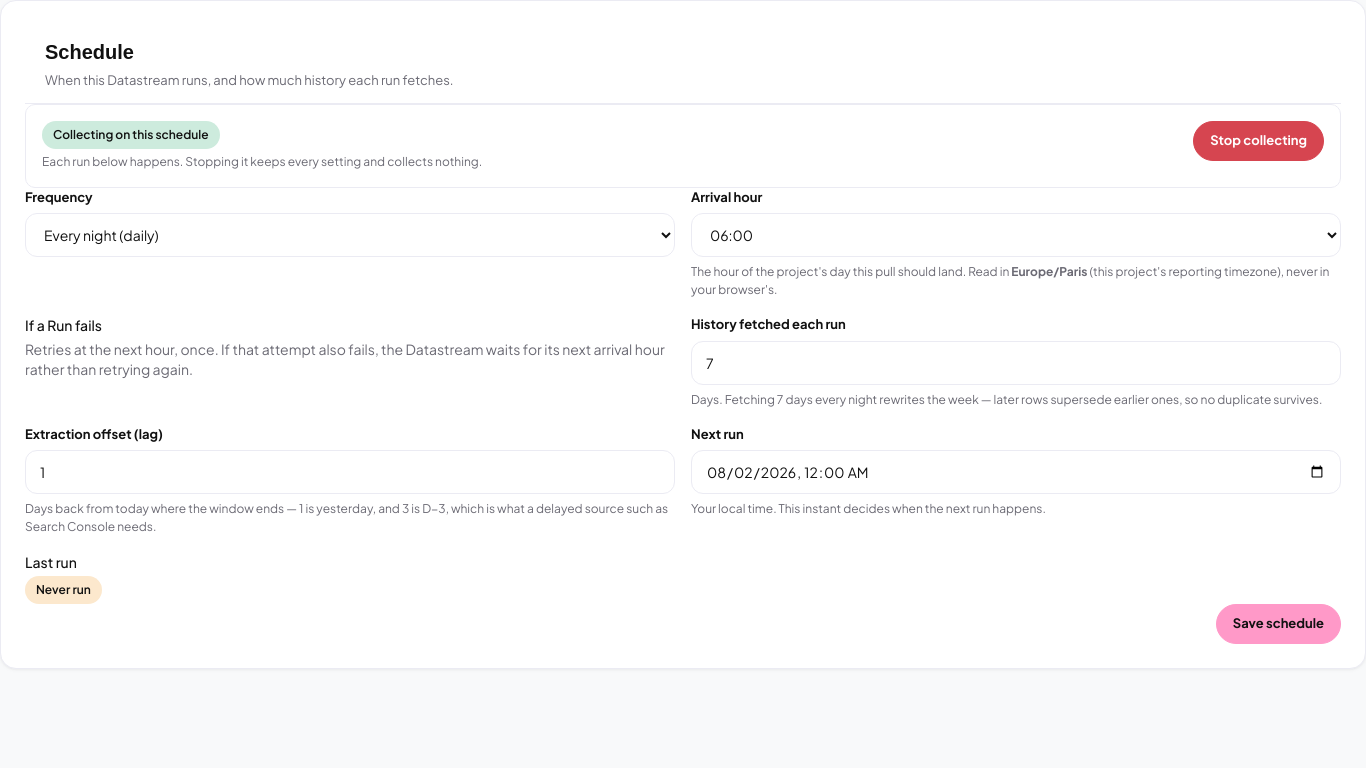
Test case: SchedulePanel › shows the server's refusal rather than a generic failure
Click the button with test id "schedule-save".
click(1278, 624)  # box [1216,604,1341,644]
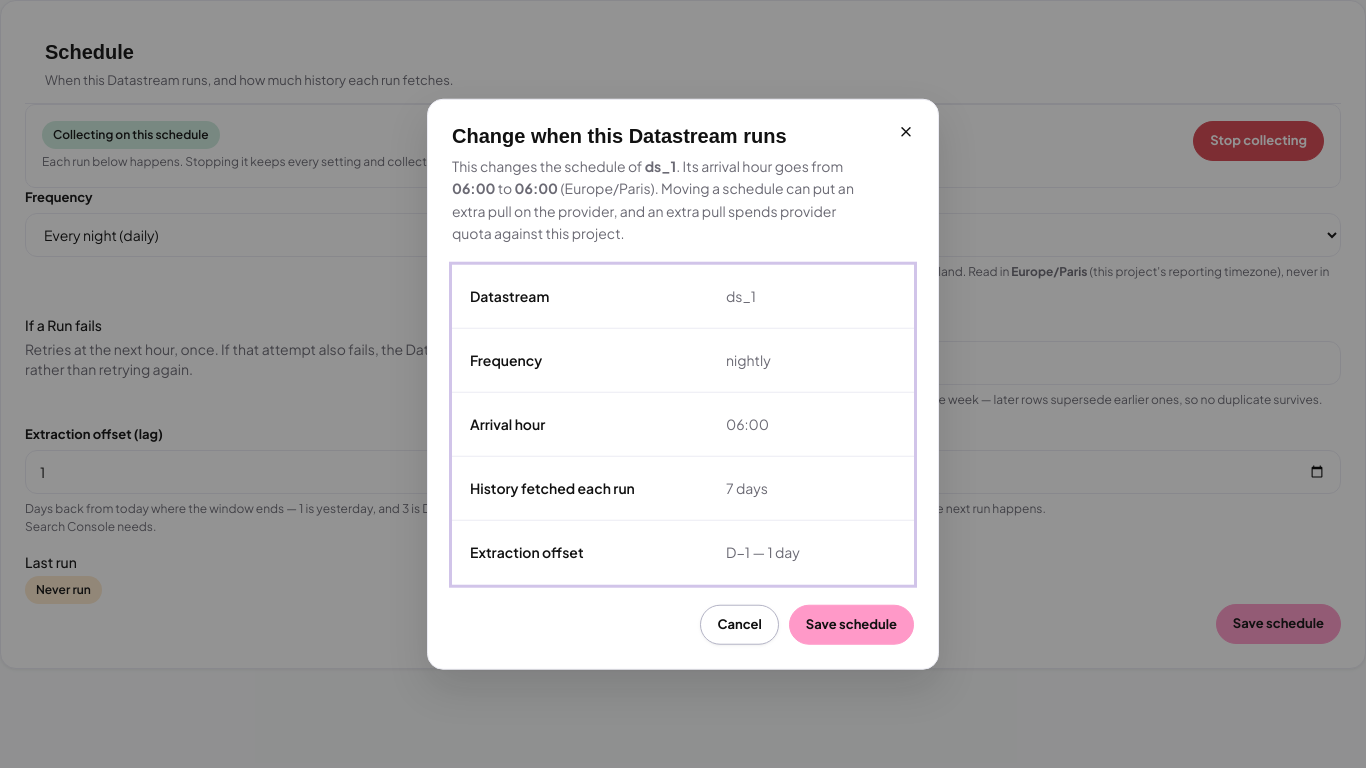
Click the button with test id "schedule-confirm-accept".
click(851, 624)  # box [789,604,914,644]
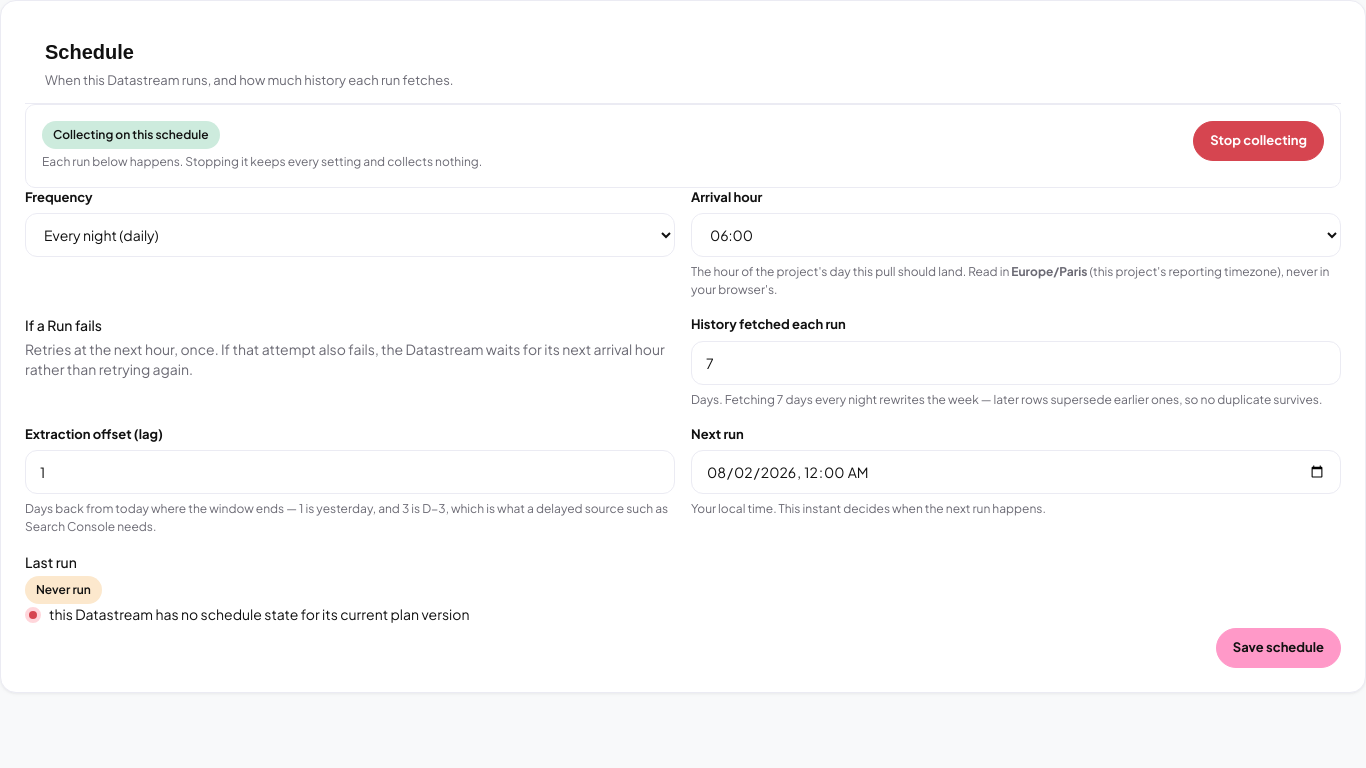
expect the text "no schedule state for its current plan version" is shown: met, box [49,605,470,623]
